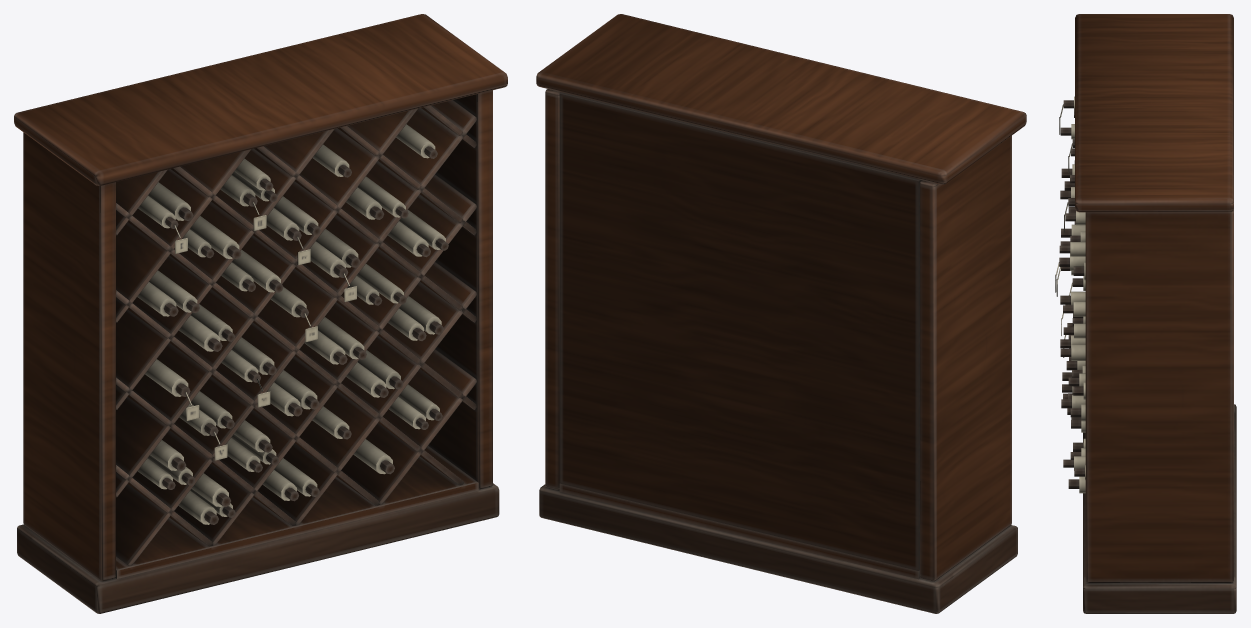
File: ScrollRack.fbx
3 renders of one model, left to right at view 1: azimuth 30°, elevation 25°; view 2: azimuth 150°, elevation 25°; view 3: azimuth 270°, elevation 25°, orthographic. The views are drawn at different scales.
Parts seen in each view (by area): view 1: ScrollRack; view 2: ScrollRack; view 3: ScrollRack.
Part boxes in pixels (box(x1,y1,x2,y2)): ScrollRack: box(14, 14, 507, 613); ScrollRack: box(536, 14, 1026, 613); ScrollRack: box(1055, 14, 1236, 613).
Size of the model in its own units: 420 by 434 by 171.
